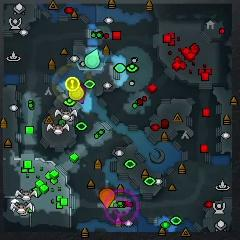Other: (65, 77, 81, 91)
p2: (85, 48, 101, 69)
p3: (79, 84, 87, 104)
p4: (69, 86, 83, 101)
p5: (100, 188, 114, 208)
